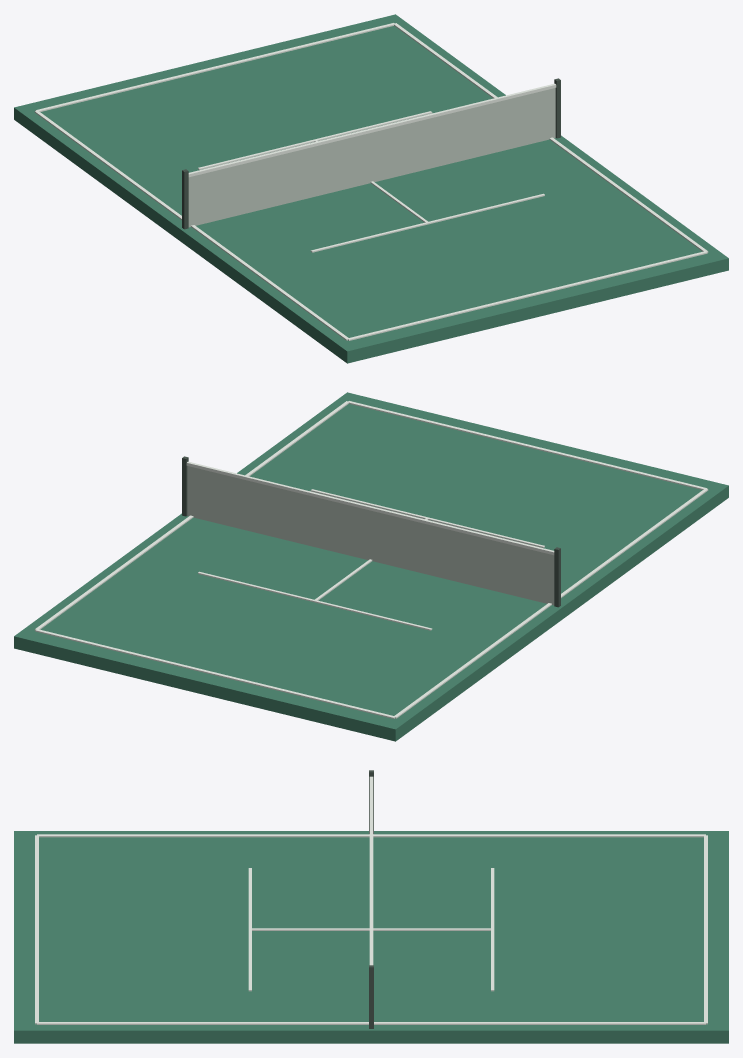
Rendered from court.glb.
3 views of the same model, one above another, from view 1: azimuth 30°, elevation 25°; view 2: azimuth 150°, elevation 25°; view 3: azimuth 270°, elevation 25° (orthographic). The views are drawn at different scales.
Visible parts, largest first — view 1: ENV_Court_Surface, ENV_Net_Mesh, ENV_Net_TopBand, LINE_SidelineWest, LINE_BaselineNorth, LINE_BaselineSouth, LINE_SidelineEast, LINE_ServiceNorth, LINE_ServiceSouth; view 2: ENV_Court_Surface, ENV_Net_Mesh, ENV_Net_TopBand, LINE_SidelineWest, LINE_BaselineSouth, LINE_BaselineNorth, LINE_SidelineEast, LINE_ServiceSouth, LINE_ServiceNorth; view 3: ENV_Court_Surface, LINE_SidelineWest, LINE_SidelineEast, ENV_Net_TopBand, LINE_BaselineSouth, LINE_BaselineNorth, LINE_ServiceSouth, LINE_ServiceNorth.
Boxes of the visible parts, x1,y1,x2,y2 form: ENV_Court_Surface: (14, 14, 728, 363); ENV_Net_Mesh: (188, 88, 555, 227); ENV_Net_TopBand: (188, 83, 556, 177); LINE_SidelineWest: (34, 111, 348, 340); LINE_BaselineNorth: (347, 251, 707, 340); LINE_BaselineSouth: (35, 23, 395, 111); LINE_SidelineEast: (394, 23, 708, 252); LINE_ServiceNorth: (310, 193, 544, 252); LINE_ServiceSouth: (198, 111, 432, 169); ENV_Court_Surface: (14, 392, 728, 741); ENV_Net_Mesh: (187, 466, 554, 605); ENV_Net_TopBand: (186, 461, 554, 555); LINE_SidelineWest: (394, 489, 708, 718); LINE_BaselineSouth: (35, 629, 395, 718); LINE_BaselineNorth: (348, 401, 707, 489); LINE_SidelineEast: (34, 401, 348, 630); LINE_ServiceSouth: (198, 571, 432, 630); LINE_ServiceNorth: (310, 489, 544, 547); ENV_Court_Surface: (14, 831, 728, 1043); LINE_SidelineWest: (37, 834, 705, 837); LINE_SidelineEast: (37, 1022, 705, 1024); ENV_Net_TopBand: (369, 776, 373, 965); LINE_BaselineSouth: (704, 835, 707, 1024); LINE_BaselineNorth: (35, 835, 38, 1024); LINE_ServiceSouth: (491, 868, 494, 991); LINE_ServiceNorth: (248, 868, 251, 991).
Bounding box in the file's own units: 8.2 × 1.43 × 12.4.
